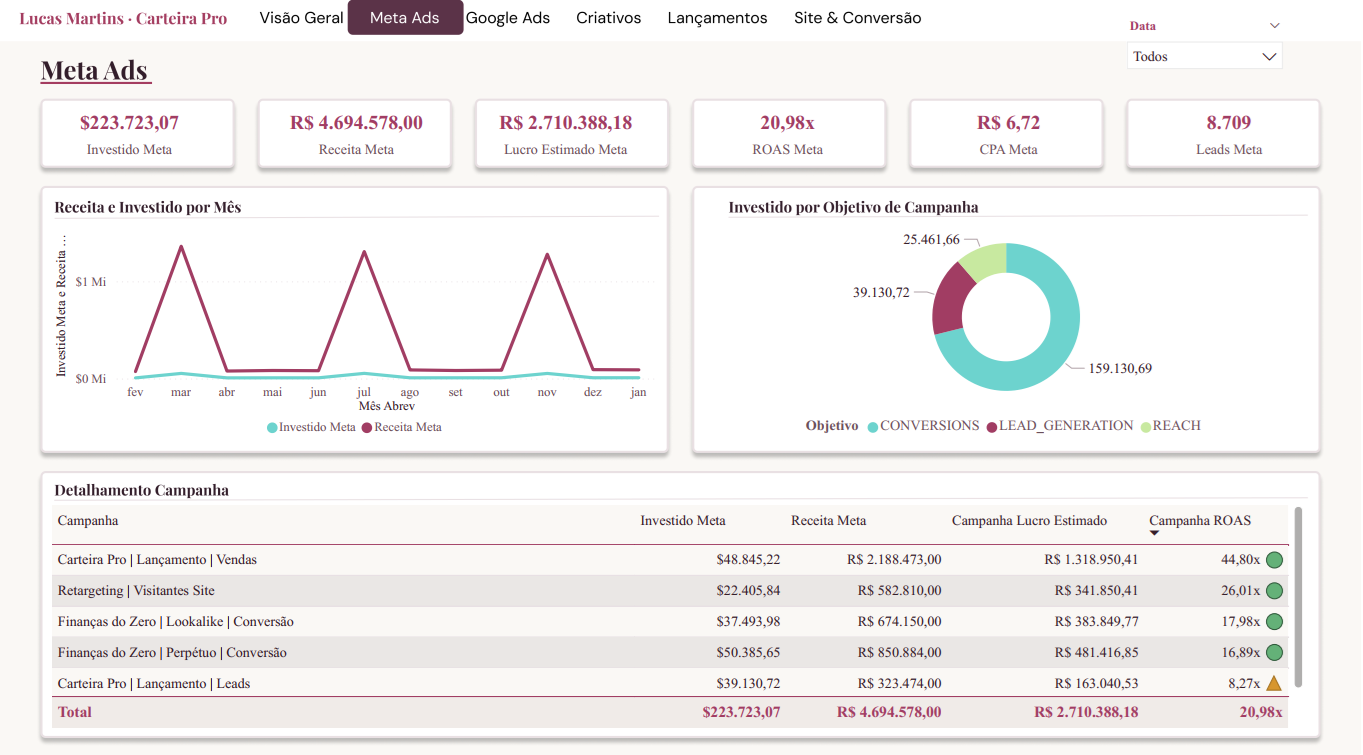

The page's visual inventory and layout, read from the dashboard file:
{"tool":"powerbi","page":{"name":"Meta","canvas":[1280,720],"ordinal":1},"visuals":[{"type":"card","fields":{"Values":["Medidas.Investido Meta"]},"box":[47.1,102.9,148.6,60],"z":0},{"type":"card","fields":{"Values":["Medidas.Receita Meta"]},"box":[258.6,102.9,152.9,60],"z":1000},{"type":"card","fields":{"Values":["Medidas.ROAS Meta"]},"box":[692.9,102.9,95.7,60],"z":2000},{"type":"card","fields":{"Values":["Medidas.CPA Meta"]},"box":[897.1,102.9,104.3,60],"z":3000},{"type":"card","fields":{"Values":["Medidas.Leads Meta"]},"box":[1108.6,102.9,95.7,60],"z":4000},{"type":"lineChart","title":"Investido e Receita","fields":{"Y":["Medidas.Investido Meta","Medidas.Receita Meta"],"Category":["Calendário.Mês Abrev"]},"box":[47.1,214.3,575.7,215.7],"z":5000},{"type":"donutChart","title":"Investido por Objetivo de Campanha","fields":{"Category":["meta_ads_data.campaign_objective"],"Y":["Medidas.Investido Meta"]},"box":[674.3,214.3,544.3,215.7],"z":6000},{"type":"tableEx","title":"Detalhamento Campanhas","fields":{"Values":["meta_ads_data.campaign_name","Medidas.Investido Meta","Medidas.Receita Meta","Medidas.Campanha Lucro Estimado","Medidas.Campanha ROAS"]},"box":[42.9,480,1188.6,218.6],"z":7000},{"type":"card","fields":{"Values":["Medidas.Lucro Estimado Meta"]},"box":[462.9,102.9,138.6,60],"z":8000},{"type":"actionButton","box":[241.7,4.9,87.1,40.5],"z":9000},{"type":"actionButton","box":[425.8,4.9,99.4,40.5],"z":10000},{"type":"actionButton","box":[525.2,4.9,99.4,40.5],"z":11000},{"type":"actionButton","box":[624.5,4.9,106.7,40.5],"z":12000},{"type":"actionButton","box":[742.3,6.1,128.8,40.5],"z":13000},{"type":"slicer","fields":{"Values":["Calendário.Date.Variation.Hierarquia de datas.Ano","Calendário.Date.Variation.Hierarquia de datas.Mês"]},"box":[1050.3,20.9,166.9,55.2],"z":14000}]}

Visuals, with their boxes in screenshot pixels (x1, y1, x2, y2), scaled from the page's 1280x720 canvas onto the 1363x755 screenshot:
card - Medidas.Investido Meta: (50, 108, 208, 171)
card - Medidas.Receita Meta: (275, 108, 438, 171)
card - Medidas.ROAS Meta: (738, 108, 840, 171)
card - Medidas.CPA Meta: (955, 108, 1066, 171)
card - Medidas.Leads Meta: (1180, 108, 1282, 171)
"Investido e Receita" lineChart: (50, 225, 663, 451)
"Investido por Objetivo de Campanha" donutChart: (718, 225, 1298, 451)
"Detalhamento Campanhas" tableEx: (46, 503, 1311, 733)
card - Medidas.Lucro Estimado Meta: (493, 108, 641, 171)
actionButton: (257, 5, 350, 48)
actionButton: (453, 5, 559, 48)
actionButton: (559, 5, 665, 48)
actionButton: (665, 5, 779, 48)
actionButton: (790, 6, 928, 49)
slicer - Calendário.Date.Variation.Hierarquia de datas.Ano x Calendário.Date.Variation.Hierarquia de datas.Mês: (1118, 22, 1296, 80)
